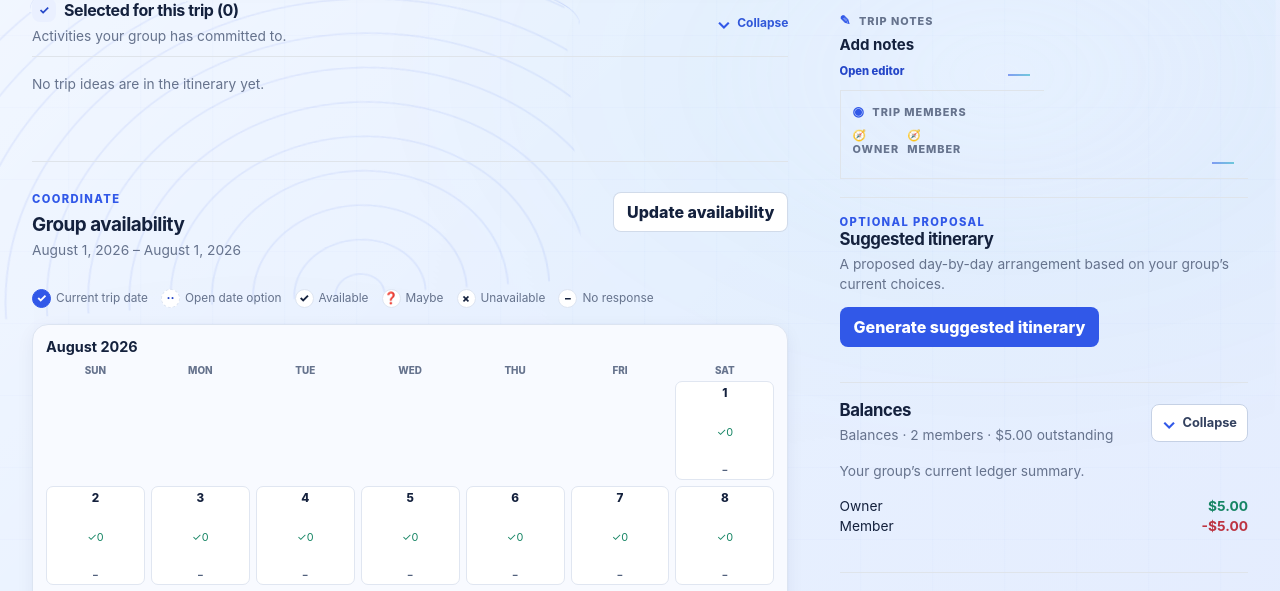
Phase 1B.5 planning UI › generates a fresh itinerary draft and keeps a stale review read-only
(page scrolled)
Click the button "Generate suggested itinerary".
click(969, 327)  # box x1=840 y1=307 x2=1099 y2=347
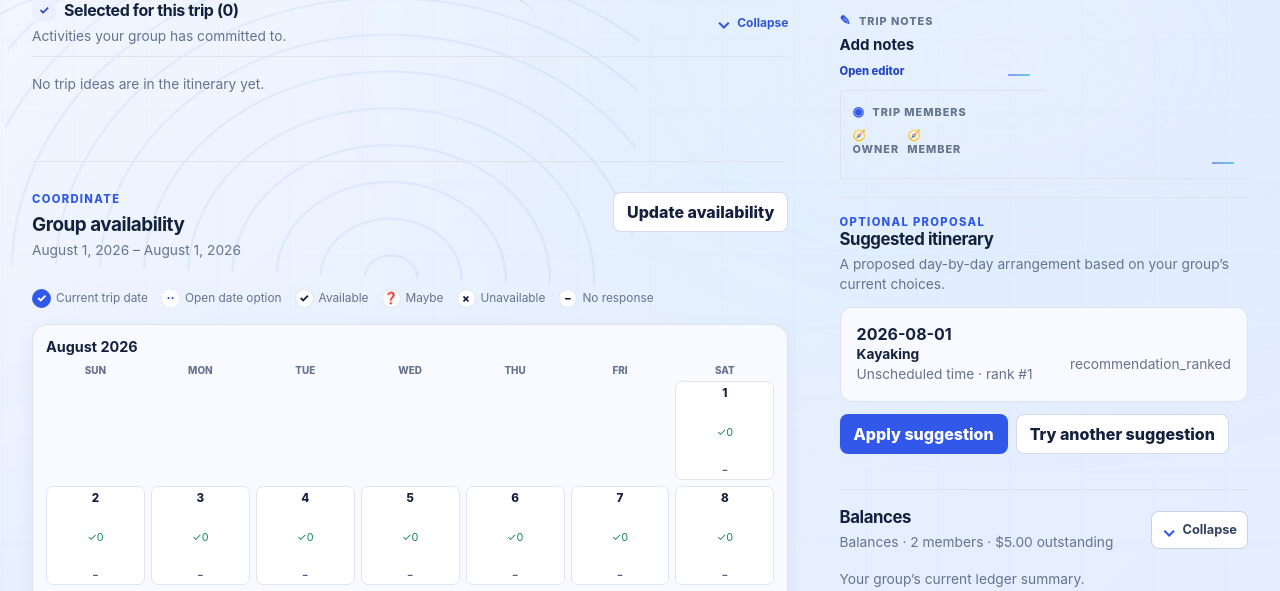
Expected: the button "Apply suggestion" is shown, x1=840 y1=414 x2=1008 y2=454
Click the button "Try another suggestion".
click(1122, 434)  # box x1=1016 y1=414 x2=1229 y2=454
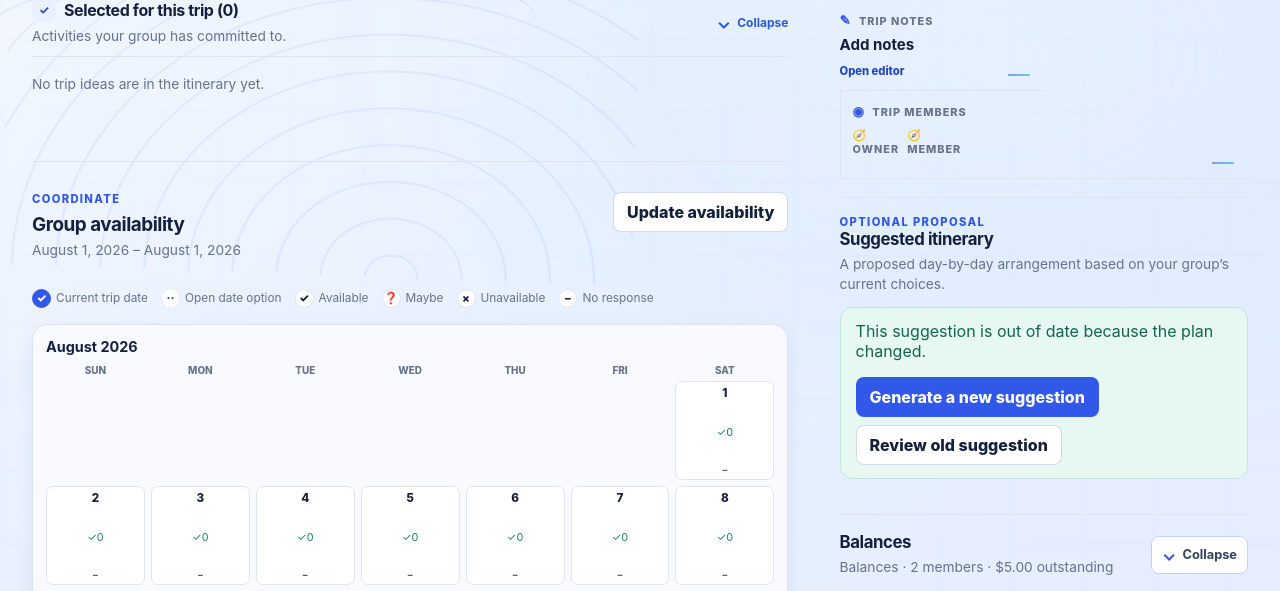
Expected: the text "This suggestion is out of date because the plan changed." is shown, x1=856 y1=321 x2=1232 y2=361
Expected: the button "Apply suggestion" is gone
Expected: the button "Review old suggestion" is shown, x1=856 y1=425 x2=1062 y2=465
